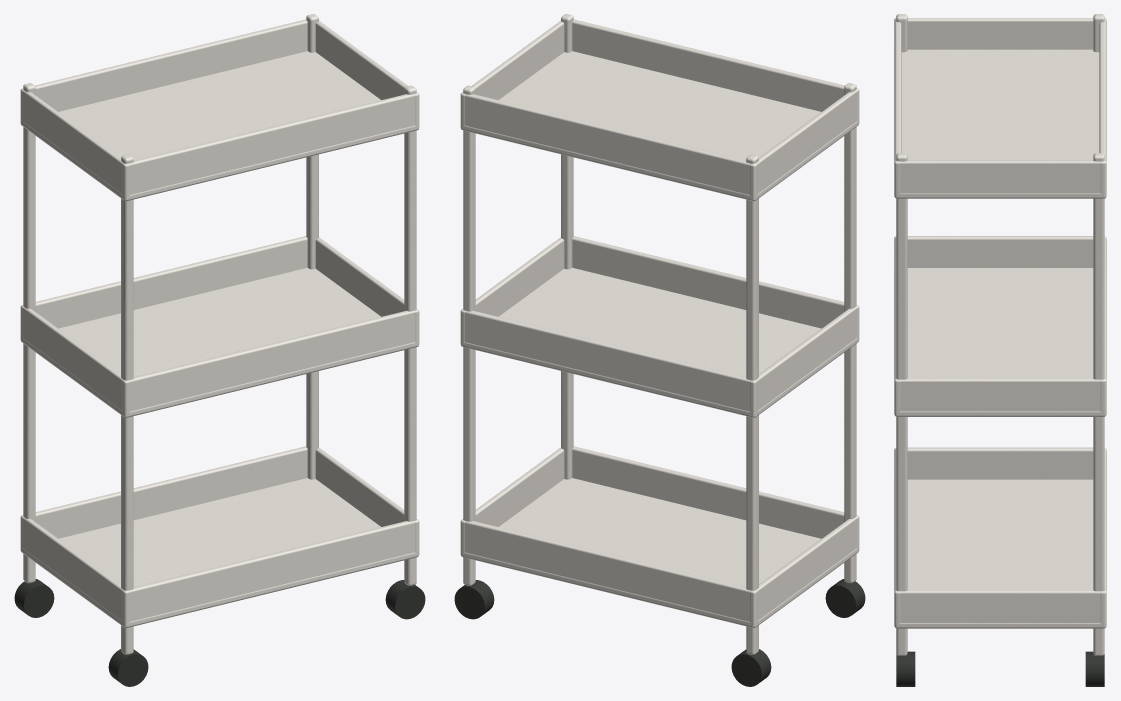
File: nissafors.glb
3 renders of one model, left to right at view 1: azimuth 30°, elevation 25°; view 2: azimuth 150°, elevation 25°; view 3: azimuth 270°, elevation 25°, orthographic.
Parts seen in each view (by area): view 1: NISSAFORS Kitchen trolley; view 2: NISSAFORS Kitchen trolley; view 3: NISSAFORS Kitchen trolley.
Part boxes in pixels (bbox=[...]): NISSAFORS Kitchen trolley: bbox=[14, 14, 425, 686]; NISSAFORS Kitchen trolley: bbox=[454, 14, 865, 686]; NISSAFORS Kitchen trolley: bbox=[894, 14, 1106, 686].
Bounding box in the file's own units: 0.505 × 0.83 × 0.3.
Materials: 2 (2 with a texture image).
